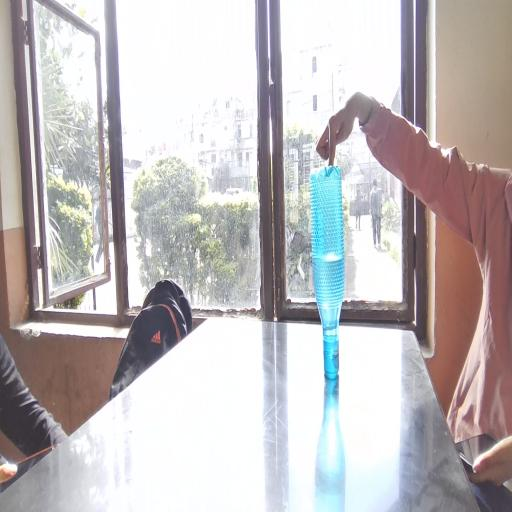Bottle: (301, 150, 363, 414)
